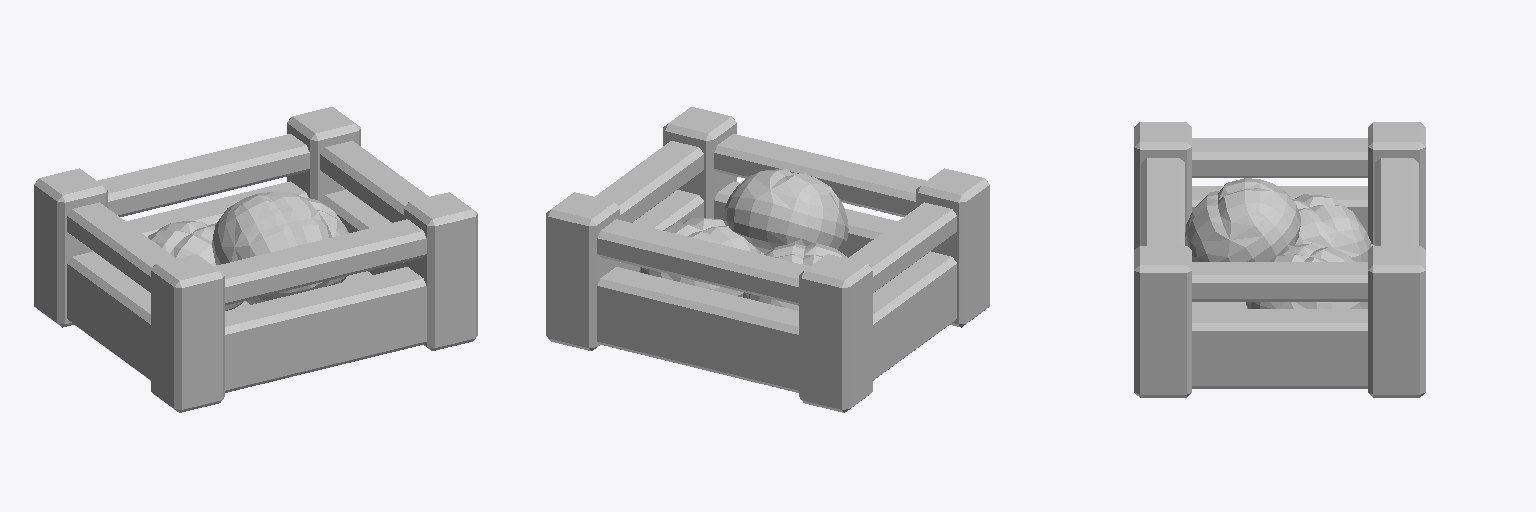
File: crate_breadroll.obj
3 views of the same model, side by side, from view 1: azimuth 30°, elevation 25°; view 2: azimuth 150°, elevation 25°; view 3: azimuth 270°, elevation 25° (orthographic).
Visible parts, largest first — view 1: crate_breadroll; view 2: crate_breadroll; view 3: crate_breadroll.
Part boxes in pixels (x1,y1,x2,y2): crate_breadroll: (34, 107, 477, 412); crate_breadroll: (546, 107, 989, 412); crate_breadroll: (1134, 122, 1425, 397).
Bounding box in the file's own units: 1.2 × 0.529 × 1.